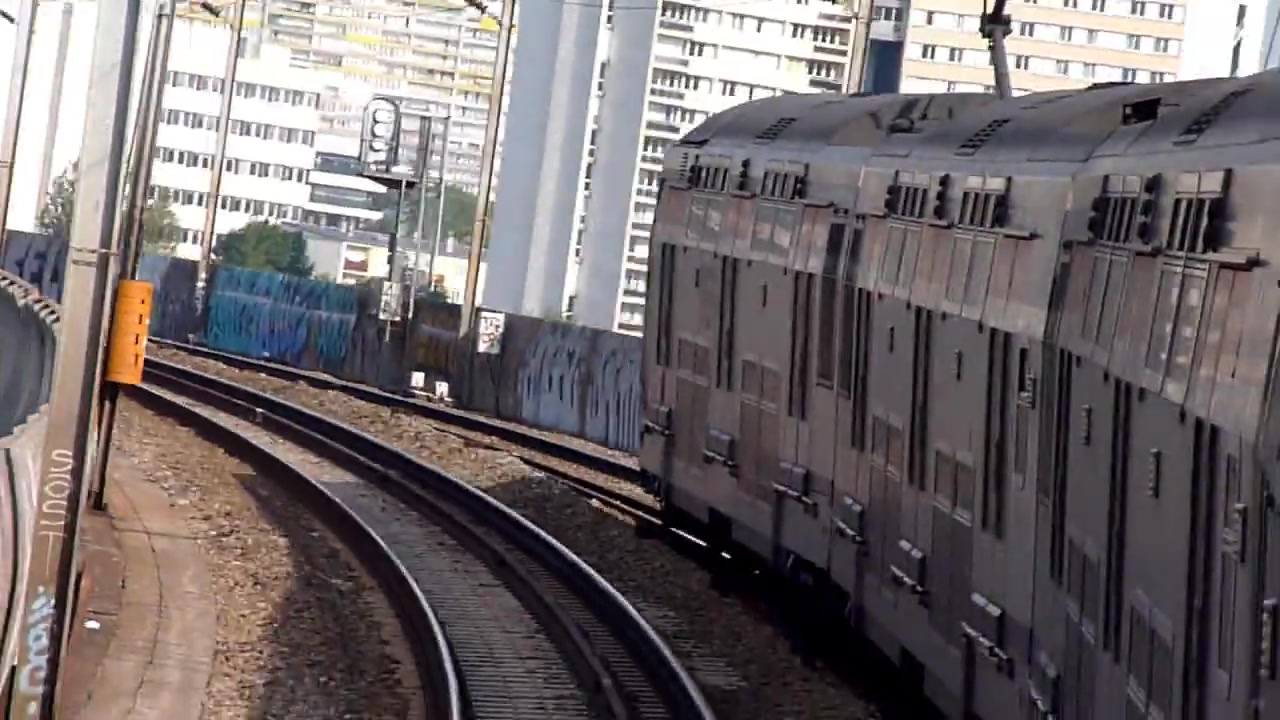train: (635, 70, 1280, 720)
